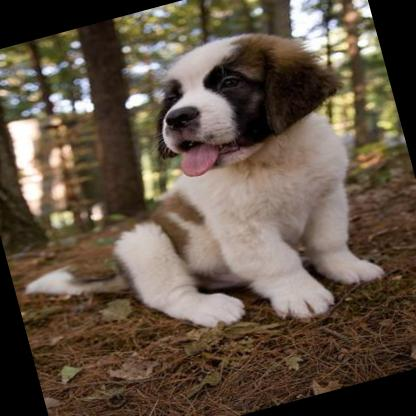Saint_Bernard: (0, 7, 399, 389)
